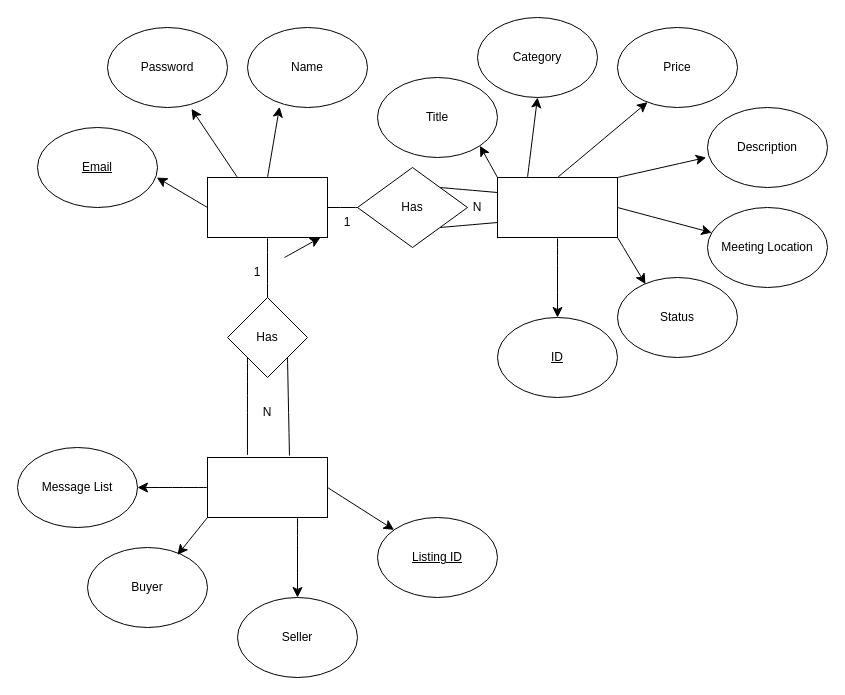
The diagram is 845 pixels wide and 695 high, and some of its shapes have lost their labels. The shapes that lost their labels are listed below. From the top down, each one's box as (x1, y1, x2, y2) in pixels, then its label:
(206, 176, 328, 238): Student
(496, 176, 618, 238): Listing
(206, 456, 328, 518): Messages
